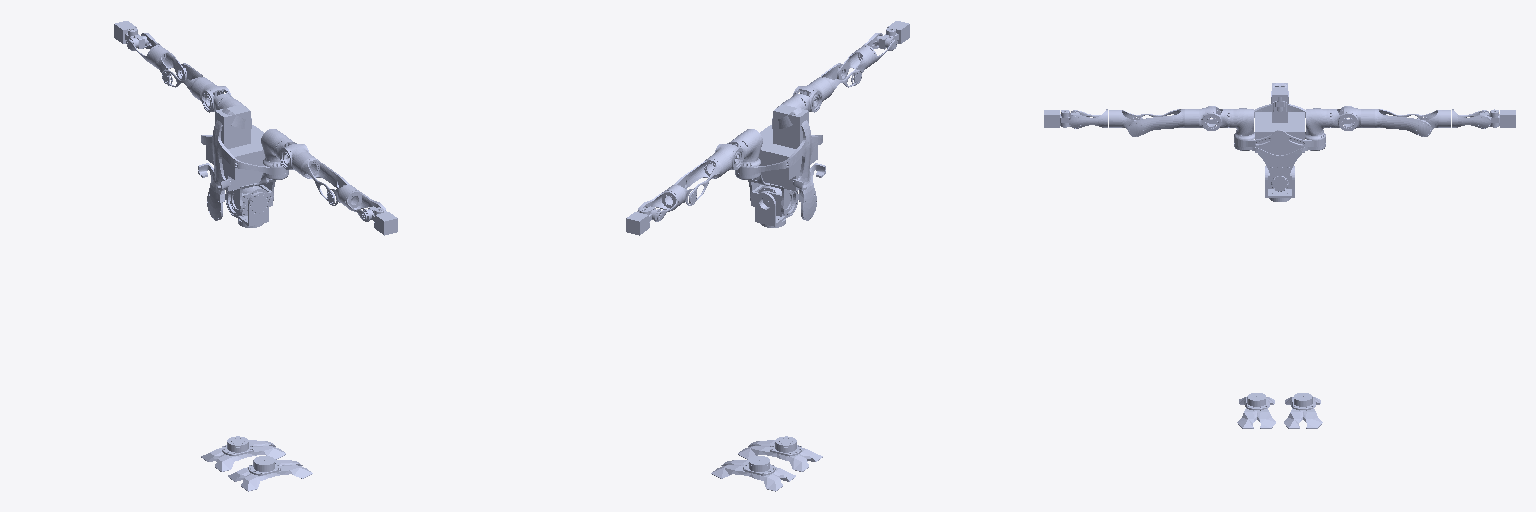
--- Facts derived from the render (not from the file) ---
The picture shows the robot from 3 angles, left to right: view 1: azimuth 30°, elevation 25°; view 2: azimuth 150°, elevation 25°; view 3: azimuth 270°, elevation 25°; orthographic projection.
Robot: dyros_tocabi_description — 36 links, 35 joints (33 revolute, 2 fixed); root link Pelvis_Link; default pose: every joint at zero.
Visible links, largest first — view 1: Upperbody_Link, R_Foot_Link, L_Foot_Link, R_Armlink_Link, Waist1_Link, L_Elbow_Link, R_Shoulder3_Link, Waist2_Link; view 2: Upperbody_Link, L_Foot_Link, R_Foot_Link, L_Armlink_Link, Waist1_Link, R_Elbow_Link, Waist2_Link, L_Shoulder3_Link; view 3: Upperbody_Link, R_Foot_Link, L_Foot_Link, R_Armlink_Link, L_Armlink_Link, R_Shoulder1_Link, L_Shoulder1_Link, R_Shoulder3_Link, L_Shoulder3_Link.
Link boxes in pixels (x1,y1,x2,y2): Upperbody_Link: (198,104,288,220); R_Foot_Link: (228,456,312,491); L_Foot_Link: (201,436,285,471); R_Armlink_Link: (302,159,351,204); Waist1_Link: (236,192,268,227); L_Elbow_Link: (149,46,185,85); R_Shoulder3_Link: (283,144,317,176); Waist2_Link: (230,185,272,216); Upperbody_Link: (735,104,825,220); L_Foot_Link: (711,456,795,491); R_Foot_Link: (738,436,822,471); L_Armlink_Link: (672,159,721,204); Waist1_Link: (755,192,787,227); R_Elbow_Link: (838,46,874,85); Waist2_Link: (751,185,793,216); L_Shoulder3_Link: (706,144,740,176); Upperbody_Link: (1234,83,1325,191); R_Foot_Link: (1237,393,1275,428); L_Foot_Link: (1284,393,1322,428); R_Armlink_Link: (1128,109,1182,136); L_Armlink_Link: (1377,109,1431,136); R_Shoulder1_Link: (1230,108,1253,135); L_Shoulder1_Link: (1306,108,1329,135); R_Shoulder3_Link: (1183,106,1220,127); L_Shoulder3_Link: (1339,106,1376,127).
Size in the robot's own frame: 0.366 by 2.09 by 1.56 metres.
Meshes: 33 distinct files referenced, 19 mesh visuals loaded (18 binary STL); not drawn: 15 (reference not matched to a file when rendering).

The robot description file, URDF, robot "dyros_tocabi_description":
<robot name="dyros_tocabi_description">
  <mujoco>
      <compiler meshdir="../meshes/" balanceinertia="true"/>
  </mujoco>
  <link
    name="Pelvis_Link">
    <inertial>
      <origin
        xyz="-0.03191 0.00017 0.01985"
        rpy="0 0 0" />
      <mass
        value="12.19525" />
      <inertia
        ixx="0.101833182"
        ixy="-0.000070812"
        ixz="-0.003831096"
        iyy="0.072400662"
        iyz="0.000079272"
        izz="0.144478157" />
    </inertial>
    <visual>
      <origin
        xyz="0 0 0"
        rpy="0 0 0" />
      <geometry>
        <mesh
          filename="package://tocabi_description/meshes/Pelvis_link.STL" />
      </geometry>
      <material
        name="">
        <color
          rgba="0.79216 0.81961 0.93333 1" />
      </material>
    </visual>
    <collision>
      <origin
        xyz="0 0 0.019"
        rpy="0 0 0" />
      <geometry>
		<cylinder length="0.088" radius="0.045"/>
      </geometry>
    </collision>
	<collision>
      <origin
        xyz="0 0.1025 0.03"
        rpy="0 0 0" />
      <geometry>
		<cylinder length="0.11" radius="0.045"/>
      </geometry>
    </collision>
	<collision>
      <origin
        xyz="0 -0.1025 0.03"
        rpy="0 0 0" />
      <geometry>
		<cylinder length="0.11" radius="0.045"/>
      </geometry>
    </collision>
	<collision>
      <origin
        xyz="-0.0205 0 0"
        rpy="0 0 0" />
      <geometry>
		<box size="0.141 0.305 0.05"/>
      </geometry>
    </collision>
  </link>
  <link
    name="R_HipRoll_Link">
<inertial>
      <origin
        xyz="-0.06477 0 0.05149"
        rpy="0 0 0" />
      <mass
        value="2.679" />
      <inertia
        ixx="0.01821"
        ixy="-1.676E-07"
        ixz="-0.0007745"
        iyy="0.03121"
        iyz="-4.53E-09"
        izz="0.2928" />
    </inertial>
    <visual>
      <origin
        xyz="0 0 0"
        rpy="0 0 0" />
      <geometry>
        <mesh
          filename="package://tocabi_description/meshes/HipRoll_R_link.STL" />
      </geometry>
      <material
        name="">
        <color
          rgba="0.79216 0.81961 0.93333 1" />
      </material>
    </visual>
    <collision>
      <origin
        xyz="-0.1 0 0"
        rpy="0 1.570796 0" />
      <geometry>
        <cylinder length="0.08" radius="0.045"/>
      </geometry>
    </collision>
	<collision>
      <origin
        xyz="-0.016 0 0.085"
        rpy="0 0 0" />
      <geometry>
		<box size="0.154 0.1 0.02"/>
      </geometry>
    </collision>
	<collision>
      <origin
        xyz="0.055 0 0.0475"
        rpy="0 0 0" />
      <geometry>
		<box size="0.012 0.072 0.095"/>
      </geometry>
    </collision>
	<collision>
      <origin
        xyz="-0.087 0 0.0475"
        rpy="0 0 0" />
      <geometry>
		<box size="0.012 0.072 0.095"/>
      </geometry>
    </collision>
  </link>
  <joint
    name="R_HipRoll_Joint"
    type="revolute">
    <origin
      xyz="0 -0.1025 -0.1225"
      rpy="0 0 0" />
    <parent
      link="Pelvis_Link" />
    <child
      link="R_HipRoll_Link" />
    <axis
      xyz="0 0 1" />
	<limit
	  lower="-3.14"
	  upper="3.14"
      effort="500"
      velocity="100" />
    <dynamics
      damping="5" />
	  
  </joint>
  <link
    name="R_HipCenter_Link">
	<inertial>
      <origin
        xyz="-0.04801 -0.0022 2E-05"
        rpy="0 0 0" />
      <mass
        value="2.67" />
      <inertia
        ixx="0.3553"
        ixy="1.725E-08"
        ixz="-3.236E-06"
        iyy="0.009161"
        iyz="-4.778E-06"
        izz="0.00876" />
    </inertial>
    <visual>
      <origin
        xyz="0 0 0"
        rpy="0 0 0" />
      <geometry>
        <mesh
          filename="package://tocabi_description/meshes/HipCenter_R_Link.STL" />
      </geometry>
      <material
        name="">
        <color
          rgba="0.79216 0.81961 0.93333 1" />
      </material>
    </visual>
    <collision>
      <origin
        xyz="-0.0045 0 0"
        rpy="0 0 0" />
      <geometry>
		<box size="0.1045 0.06 0.095"/>
      </geometry>
    </collision>
  </link>
  <joint
    name="R_HipCenter_Joint"
    type="revolute">
    <origin
      xyz="0 0 0"
      rpy="1.38777878078145E-17 2.74984739744835E-16 4.49346870585602E-16" />
    <parent
      link="R_HipRoll_Link" />
    <child
      link="R_HipCenter_Link" />
    <axis
      xyz="1 0 0" />
	  <limit
	  lower="-3.14"
	  upper="3.14"
      effort="500"
      velocity="100" />
    <dynamics
      damping="5" />
  </joint>
  <link
    name="R_Thigh_Link">
    <inertial>
      <origin
        xyz="-0.00042 -0.00032 -0.18904"
        rpy="0 0 0" />
      <mass
        value="5.366" />
      <inertia
        ixx="0.2987"
        ixy="-4.284E-05"
        ixz="-0.000196"
        iyy="0.7088"
        iyz="0.002406"
        izz="0.00982" />
    </inertial>
    <visual>
      <origin
        xyz="0 0 0"
        rpy="0 0 0" />
      <geometry>
        <mesh
          filename="package://tocabi_description/meshes/Thigh_R_Link.STL" />
      </geometry>
      <material
        name="">
        <color
          rgba="0.79216 0.81961 0.93333 1" />
      </material>
    </visual>
    <collision>
      <origin
        xyz="0 0 -0.35"
        rpy="1.570796 0 0" />
      <geometry>
        <cylinder length="0.07763" radius="0.049"/>
      </geometry>
    </collision>
	<collision>
      <origin
        xyz="0 0 -0.1923"
        rpy="0 0 0" />
      <geometry>
        <cylinder length="0.2175" radius="0.06"/>
      </geometry>
    </collision>
  </link>
  <joint
    name="R_Thigh_Joint"
    type="revolute">
    <origin
      xyz="0 0 0"
      rpy="-1.38777878078143E-17 -2.74984739744835E-16 -4.49346870585602E-16" />
    <parent
      link="R_HipCenter_Link" />
    <child
      link="R_Thigh_Link" />
    <axis
      xyz="0 1 0" />
	  <limit
	  lower="-3.14"
	  upper="3.14"
      effort="500"
      velocity="100" />
    <dynamics
      damping="5" />
  </joint>
  <link
    name="R_Knee_Link">
     <inertial>
      <origin
        xyz="0.00429 0.00214 -0.1428"
        rpy="0 0 0" />
      <mass
        value="3.883" />
      <inertia
        ixx="0.1506"
        ixy="-2.887E-05"
        ixz="-0.002607"
        iyy="0.5588"
        iyz="-0.001486"
        izz="0.007451" />
    </inertial>
    <visual>
      <origin
        xyz="0 0 0"
        rpy="0 0 0" />
      <geometry>
        <mesh
          filename="package://tocabi_description/meshes/Knee_R_Link.STL" />
      </geometry>
      <material
        name="">
        <color
          rgba="0.79216 0.81961 0.93333 1" />
      </material>
    </visual>
    <collision>
      <origin
        xyz="0 0 -0.175"
        rpy="0 0 0" />
      <geometry>
        <cylinder length="0.200" radius="0.06"/>
      </geometry>
    </collision>
  </link>
  <joint
    name="R_Knee_Joint"
    type="revolute">
    <origin
      xyz="0 0 -0.349999999999809"
      rpy="0 0 0" />
    <parent
      link="R_Thigh_Link" />
    <child
      link="R_Knee_Link" />
    <axis
      xyz="0 1 0" />
	  <limit
	  lower="-3.14"
	  upper="3.14"
      effort="500"
      velocity="100" />
    <dynamics
      damping="5" />
  </joint>
  <link
    name="R_AnkleCenter_Link">
<inertial>
      <origin
        xyz="-0.00419 -0.0018 -0.0003"
        rpy="0 0 0" />
      <mass
        value="2.51" />
      <inertia
        ixx="0.002857"
        ixy="-1.422E-07"
        ixz="2.222E-06"
        iyy="0.4135"
        iyz="4.611E-06"
        izz="0.003345" />
    </inertial>
    <visual>
      <origin
        xyz="0 0 0"
        rpy="0 0 0" />
      <geometry>
        <mesh
          filename="package://tocabi_description/meshes/AnkleCenter_R_Link.STL" />
      </geometry>
      <material
        name="">
        <color
          rgba="0.79216 0.81961 0.93333 1" />
      </material>
    </visual>
    <collision>
      <origin
        xyz="-0.0045 0 0"
        rpy="0 0 0" />
      <geometry>
		<box size="0.1045 0.06 0.095"/>
      </geometry>
    </collision>
  </link>
  <joint
    name="R_AnkleCenter_Joint"
    type="revolute">
    <origin
      xyz="0 0 -0.35"
      rpy="-2.77555756156282E-17 -1.48042453629419E-16 5.37756273475549E-16" />
    <parent
      link="R_Knee_Link" />
    <child
      link="R_AnkleCenter_Link" />
    <axis
      xyz="0 1 0" />
	  <limit
	  lower="-3.14"
	  upper="3.14"
      effort="500"
      velocity="100" />
    <dynamics
      damping="5" />
  </joint>
  <link
    name="R_AnkleRoll_Link">
    <inertial>
      <origin
        xyz="-0.05196 0.00005 -0.0219"
        rpy="0 0 0" />
      <mass
        value="1.26426" />
      <inertia
        ixx="0.418697"
        ixy="1.5176E-08"
        ixz="-0.001095976"
        iyy="0.006211405"
        iyz="-5.435E-08"
        izz="0.008575514" />
    </inertial>
    <visual>
      <origin
        xyz="0 0 0"
        rpy="0 0 0" />
      <geometry>
        <mesh
          filename="package://tocabi_description/meshes/AnkleRoll_R_Link.STL" />
      </geometry>
      <material
        name="">
        <color
          rgba="0.79216 0.81961 0.93333 1" />
      </material>
    </visual>
    <collision>
      <origin
        xyz="-0.08875 0 0"
        rpy="0 -1.5707963 0" />
      <geometry>
		<cylinder length="0.0625" radius="0.045"/>
      </geometry>
    </collision>
  </link>
  <joint
    name="R_AnkleRoll_Joint"
    type="revolute">
    <origin
      xyz="0 0 0"
      rpy="0 0 0" />
    <parent
      link="R_AnkleCenter_Link" />
    <child
      link="R_AnkleRoll_Link" />
    <axis
      xyz="1 0 0" />
	  <limit
	  lower="-3.14"
	  upper="3.14"
      effort="500"
      velocity="100" />
    <dynamics
      damping="5" />
  </joint>
  <link
    name="R_Foot_Link">
    <inertial>
      <origin
        xyz="-0.0162 0.00008 -0.1209"
        rpy="0 0 0" />
      <mass
        value="2.326" />
      <inertia
        ixx="0.003386409"
        ixy="1.1237E-05"
        ixz="-0.000526477"
        iyy="0.012600125"
        iyz="-1.976E-06"
        izz="0.014296" />
    </inertial>
    <visual>
      <origin
        xyz="0 0 0"
        rpy="0 0 0" />
      <geometry>
        <mesh
          filename="package://tocabi_description/meshes/Foot_Link.STL" />
      </geometry>
      <material
        name="">
        <color
          rgba="0.79216 0.81961 0.93333 1" />
      </material>
    </visual>
    <collision>
      <origin
        xyz="0.03 0 -0.145"
        rpy="0 0 0" />
      <geometry>
		<box size="0.3 0.17 0.027"/>
      </geometry>
    </collision>
	<collision>
      <origin
        xyz="-0.08875 0 0"
        rpy="0 -1.5707963 0" />
      <geometry>
		<cylinder length="0.0625" radius="0.045"/>
      </geometry>
    </collision>
  </link>
  <joint
    name="R_Foot_Joint"
    type="fixed">
    <origin
      xyz="0 0 0"
      rpy="0 0 0" />
    <parent
      link="R_AnkleRoll_Link" />
    <child
      link="R_Foot_Link" />
    <axis
      xyz="0 0 0" />
	  <limit
	  lower="-3.14"
	  upper="3.14"
      effort="500"
      velocity="100" />
    <dynamics
      damping="5" />
  </joint> 
  <link
    name="L_HipRoll_Link">
    <inertial>
      <origin
        xyz="-0.06477 0 0.05149"
        rpy="0 0 0" />
      <mass
        value="2.679" />
      <inertia
        ixx="0.01821"
        ixy="-1.676E-07"
        ixz="-0.0007745"
        iyy="0.03121"
        iyz="-4.53E-09"
        izz="0.2928" />
    </inertial>
    <visual>
      <origin
        xyz="0 0 0"
        rpy="0 0 0" />
      <geometry>
        <mesh
          filename="package://tocabi_description/meshes/HipRoll_L_Link.STL" />
      </geometry>
      <material
        name="">
        <color
          rgba="0.79216 0.81961 0.93333 1" />
      </material>
    </visual>
    <collision>
      <origin
        xyz="-0.1 0 0"
        rpy="0 1.570796 0" />
      <geometry>
        <cylinder length="0.08" radius="0.045"/>
      </geometry>
    </collision>
	<collision>
      <origin
        xyz="-0.016 0 0.085"
        rpy="0 0 0" />
      <geometry>
		<box size="0.154 0.1 0.02"/>
      </geometry>
    </collision>
	<collision>
      <origin
        xyz="0.055 0 0.0475"
        rpy="0 0 0" />
      <geometry>
		<box size="0.012 0.072 0.095"/>
      </geometry>
    </collision>
	<collision>
      <origin
        xyz="-0.087 0 0.0475"
        rpy="0 0 0" />
      <geometry>
		<box size="0.012 0.072 0.095"/>
      </geometry>
    </collision>
  </link>
  <joint
    name="L_HipRoll_Joint"
    type="revolute">
    <origin
      xyz="0 0.1025 -0.1225"
      rpy="0 0 0" />
    <parent
      link="Pelvis_Link" />
    <child
      link="L_HipRoll_Link" />
    <axis
      xyz="0 0 1" />
	  <limit
	  lower="-3.14"
	  upper="3.14"
      effort="500"
      velocity="100" />
    <dynamics
      damping="5" />
  </joint>

  <link
    name="L_HipCenter_Link">
   <inertial>
      <origin
        xyz="-0.04801 0.0022 2E-05"
        rpy="0 0 0" />
      <mass
        value="2.67" />
      <inertia
        ixx="0.3553"
        ixy="1.725E-08"
        ixz="-3.236E-06"
        iyy="0.009161"
        iyz="-4.778E-06"
        izz="0.00876" />
    </inertial>
    <visual>
      <origin
        xyz="0 0 0"
        rpy="0 0 0" />
      <geometry>
        <mesh
          filename="package://tocabi_description/meshes/HipCenter_L_Link.STL" />
      </geometry>
      <material
        name="">
        <color
          rgba="0.79216 0.81961 0.93333 1" />
      </material>
    </visual>    
    <collision>
      <origin
        xyz="-0.0045 0 0"
        rpy="0 0 0" />
      <geometry>
		<box size="0.1045 0.06 0.095"/>
      </geometry>
    </collision>
  </link>
  <joint
    name="L_HipCenter_Joint"
    type="revolute">
    <origin
      xyz="0 0 0"
      rpy="2.77555756156289E-17 1.88969769143558E-16 1.36928250674653E-16" />
    <parent
      link="L_HipRoll_Link" />
    <child
      link="L_HipCenter_Link" />
    <axis
      xyz="1 0 0" />
	  <limit
	  lower="-3.14"
	  upper="3.14"
      effort="500"
      velocity="100" />
    <dynamics
      damping="5" />
  </joint>
  <link
    name="L_Thigh_Link">
   <inertial>
      <origin
        xyz="-0.00042 0.00032 -0.18904"
        rpy="0 0 0" />
      <mass
        value="5.366" />
      <inertia
        ixx="0.2987"
        ixy="-4.284E-05"
        ixz="-0.000196"
        iyy="0.7088"
        iyz="0.002406"
        izz="0.00982" />
    </inertial>
    <visual>
      <origin
        xyz="0 0 0"
        rpy="0 0 0" />
      <geometry>
        <mesh
          filename="package://tocabi_description/meshes/Thigh_L_Link.STL" />
      </geometry>
      <material
        name="">
        <color
          rgba="0.79216 0.81961 0.93333 1" />
      </material>
    </visual>
    <collision>
      <origin
        xyz="0 0 -0.35"
        rpy="1.570796 0 0" />
      <geometry>
        <cylinder length="0.07763" radius="0.049"/>
      </geometry>
    </collision>
	<collision>
      <origin
        xyz="0 0 -0.1923"
        rpy="0 0 0" />
      <geometry>
        <cylinder length="0.2175" radius="0.06"/>
      </geometry>
    </collision>
  </link>
  <joint
    name="L_Thigh_Joint"
    type="revolute">
    <origin
      xyz="0 0 0"
      rpy="-2.77555756156289E-17 -1.88969769143558E-16 -1.36928250674653E-16" />
    <parent
      link="L_HipCenter_Link" />
    <child
      link="L_Thigh_Link" />
    <axis
      xyz="0 1 0" />
	  <limit
	  lower="-3.14"
	  upper="3.14"
      effort="500"
      velocity="100" />
    <dynamics
      damping="5" />
  </joint>

  <link
    name="L_Knee_Link">
    <inertial>
      <origin
        xyz="0.00429 -0.00214 -0.1428"
        rpy="0 0 0" />
      <mass
        value="3.883" />
      <inertia
        ixx="0.1506"
        ixy="-2.887E-05"
        ixz="-0.002607"
        iyy="0.5588"
        iyz="-0.001486"
        izz="0.007451" />
    </inertial>
    <visual>
      <origin
        xyz="0 0 0"
        rpy="0 0 0" />
      <geometry>
        <mesh
          filename="package://tocabi_description/meshes/Knee_L_Link.STL" />
      </geometry>
      <material
        name="">
        <color
          rgba="0.79216 0.81961 0.93333 1" />
      </material>
    </visual>
    <collision>
      <origin
        xyz="0 0 -0.175"
        rpy="0 0 0" />
      <geometry>
        <cylinder length="0.200" radius="0.06"/>
      </geometry>
    </collision>
  </link>
  <joint
    name="L_Knee_Joint"
    type="revolute">
    <origin
      xyz="0 0 -0.350000000000191"
      rpy="0 0 0" />
    <parent
      link="L_Thigh_Link" />
    <child
      link="L_Knee_Link" />
    <axis
      xyz="0 1 0" />
	  <limit
	  lower="-3.14"
	  upper="3.14"
      effort="500"
      velocity="100" />
    <dynamics
      damping="5" />
  </joint>
  <link
    name="L_AnkleCenter_Link">
     <inertial>
      <origin
        xyz="-0.00419 0.0018 -0.0003"
        rpy="0 0 0" />
      <mass
        value="2.51" />
      <inertia
        ixx="0.002857"
        ixy="-1.422E-07"
        ixz="2.222E-06"
        iyy="0.4135"
        iyz="4.611E-06"
        izz="0.003345" />
    </inertial>
    <visual>
      <origin
        xyz="0 0 0"
        rpy="0 0 0" />
      <geometry>
        <mesh
          filename="package://tocabi_description/meshes/AnkleCenter_L_Link.STL" />
      </geometry>
      <material
        name="">
        <color
          rgba="0.79216 0.81961 0.93333 1" />
      </material>
    </visual>
    <collision>
      <origin
        xyz="-0.0045 0 0"
        rpy="0 0 0" />
      <geometry>
		<box size="0.1045 0.06 0.095"/>
      </geometry>
    </collision>
  </link>
  <joint
    name="L_AnkleCenter_Joint"
    type="revolute">
    <origin
      xyz="0 0 -0.350000000051828"
      rpy="2.57102424745274E-31 -1.5978825624527E-16 1.89651504296143E-16" />
    <parent
      link="L_Knee_Link" />
    <child
      link="L_AnkleCenter_Link" />
    <axis
      xyz="0 1 0" />
	  <limit
	  lower="-3.14"
	  upper="3.14"
      effort="500"
      velocity="100" />
    <dynamics
      damping="5" />
  </joint>
  <link
    name="L_AnkleRoll_Link">
    <inertial>
      <origin
        xyz="-0.05196 0.00005 -0.0219"
        rpy="0 0 0" />
      <mass
        value="1.26426" />
      <inertia
        ixx="0.418697"
        ixy="1.5176E-08"
        ixz="-0.001095976"
        iyy="0.006211405"
        iyz="-5.435E-08"
        izz="0.008575514" />
    </inertial>
    <visual>
      <origin
        xyz="0 0 0"
        rpy="0 0 0" />
      <geometry>
        <mesh
          filename="package://tocabi_description/meshes/AnkleRoll_L_Link.STL" />
      </geometry>
      <material
        name="">
        <color
          rgba="0.79216 0.81961 0.93333 1" />
      </material>
    </visual>
    <collision>
      <origin
        xyz="-0.08875 0 0"
        rpy="0 -1.5707963 0" />
      <geometry>
		<cylinder length="0.0625" radius="0.045"/>
      </geometry>
    </collision>
  </link>
  <joint
    name="L_AnkleRoll_Joint"
    type="revolute">
    <origin
      xyz="0 0 0"
      rpy="-2.87406507911047E-31 1.5978825624527E-16 -1.89651504296143E-16" />
    <parent
      link="L_AnkleCenter_Link" />
    <child
      link="L_AnkleRoll_Link" />
    <axis
      xyz="1 0 0" />
	  <limit
	  lower="-3.14"
	  upper="3.14"
      effort="500"
      velocity="100" />
    <dynamics
      damping="5" />
  </joint>
  <link
    name="L_Foot_Link">
    <inertial>
      <origin
        xyz="-0.0162 0.00008 -0.1209"
        rpy="0 0 0" />
      <mass
        value="2.326" />
      <inertia
        ixx="0.003386409"
        ixy="1.1237E-05"
        ixz="-0.000526477"
        iyy="0.012600125"
        iyz="-1.976E-06"
        izz="0.014296" />
    </inertial>
    <visual>
      <origin
        xyz="0 0 0"
        rpy="0 0 0" />
      <geometry>
        <mesh
          filename="package://tocabi_description/meshes/Foot_Link.STL" />
      </geometry>
      <material
        name="">
        <color
          rgba="0.79216 0.81961 0.93333 1" />
      </material>
    </visual>
    <collision>
      <origin
        xyz="0.03 0 -0.145"
        rpy="0 0 0" />
      <geometry>
		<box size="0.3 0.17 0.027"/>
      </geometry>
    </collision>
	<collision>
      <origin
        xyz="-0.08875 0 0"
        rpy="0 -1.5707963 0" />
      <geometry>
		<cylinder length="0.0625" radius="0.045"/>
      </geometry>
    </collision>
  </link>
  <joint
    name="L_Foot_Joint"
    type="fixed">
    <origin
      xyz="0 0 0"
      rpy="0 0 0" />
    <parent
      link="L_AnkleRoll_Link" />
    <child
      link="L_Foot_Link" />
    <axis
      xyz="0 0 0" />
	  <limit
	  lower="-3.14"
	  upper="3.14"
      effort="500"
      velocity="100" />
    <dynamics
      damping="5" />
  </joint>
  <link
    name="Waist1_Link">
    <inertial>
      <origin
        xyz="0 -0.013 -0.03647"
        rpy="0 0 0" />
      <mass
        value="0.89722" />
      <inertia
        ixx="0.003744227"
        ixy="-0.000023489"
        ixz="0.000037149"
        iyy="0.002030963"
        iyz="-0.000424890"
        izz="1.007723743" />
    </inertial>
    <visual>
      <origin
        xyz="0 0 0"
        rpy="0 0 0" />
      <geometry>
        <mesh
          filename="package://tocabi_description/meshes/waist1.STL" />
      </geometry>
      <material
        name="">
        <color
          rgba="0.792156862745098 0.819607843137255 0.933333333333333 1" />
      </material>
    </visual>
	<visual>
      <origin
        xyz="0 0 -0.096"
        rpy="0 0 0" />
      <geometry>
        <cylinder length="0.02" radius="0.05"/>
      </geometry>
      <material
        name="">
        <color
          rgba="0.792156862745098 0.819607843137255 0.933333333333333 1" />
      </material>
    </visual>
	<collision>
      <origin
        xyz="0 0 -0.096"
        rpy="0 0 0" />
      <geometry>
		<cylinder length="0.02" radius="0.05"/>
      </geometry>	  
    </collision>	
	<collision>
      <origin
        xyz="0 0 -0.081"
        rpy="0 0 0" />
      <geometry>
        <box size="0.094 0.13 0.01"/>
      </geometry>	  
    </collision>
	<collision>
      <origin
        xyz="0 0.06 -0.0405"
        rpy="0 0 0" />
      <geometry>
        <box size="0.094 0.01 0.091"/>
      </geometry>	  
    </collision>
	<collision>
      <origin
        xyz="0 -0.06 -0.0405"
        rpy="0 0 0" />
      <geometry>
        <box size="0.094 0.01 0.091"/>
      </geometry>	  
    </collision>
	
  </link>
  <joint
    name="Waist1_Joint"
    type="revolute">
    <origin
      xyz="0 0 0.1779"
      rpy="0 0 0" />
    <parent
      link="Pelvis_Link" />
    <child
      link="Waist1_Link" />
    <axis
      xyz="0 0 1" />
    <limit
      lower="-2.094"
      upper="2.094"
      effort="500"
      velocity="100" />
	<dynamics
      damping="5" />
   </joint>
  <link
    name="Waist2_Link">
    <inertial>
      <origin
        xyz="-0.00029 0.00913 0"
        rpy="0 0 0" />
      <mass
        value="3.752" />
      <inertia
        ixx="0.006020606"
        ixy="0.000011504"
        ixz="-0.000000053"
        iyy="1.011708561"
        iyz="0.000001147"
        izz="0.007561688" />
    </inertial>
    <visual>
      <origin
        xyz="0 0 0"
        rpy="0 0 0" />
      <geometry>
        <mesh
          filename="package://tocabi_description/meshes/waist2.STL" />
      </geometry>
      <material
        name="">
        <color
          rgba="0.792156862745098 0.819607843137255 0.933333333333333 1" />
      </material>
    </visual>
    
	<collision>
      <origin
        xyz="0 0 0"
        rpy="1.570796 0 0" />
      <geometry>
        <cylinder length="0.1" radius="0.055"/>
      </geometry>
    </collision>
	<collision>
      <origin
        xyz="0.02 0 0"
        rpy="0 0 0" />
      <geometry>
        <box size="0.1 0.1 0.06"/>
      </geometry>
    </collision>
	<collision>
      <origin
        xyz="-0.02 0 0"
        rpy="0 0 0" />
      <geometry>
        <box size="0.09 0.1 0.091"/>
      </geometry>
    </collision>
	
	
  </link>
  <joint
    name="Waist2_Joint"
    type="revolute">
    <origin
      xyz="0 0 0"
      rpy="0 0 0" />
    <parent
      link="Waist1_Link" />
    <child
      link="Waist2_Link" />
    <axis
      xyz="0 1 0" />
    <limit
      lower="-2.094"
      upper="2.094"
      effort="500"
      velocity="100" />
	<dynamics
      damping="5" />
  </joint>
<link
    name="Upperbody_Link">
    <inertial>
      <origin
        xyz="-0.04294 0.00024 0.14798"
        rpy="0 0 0" />
      <mass
        value="16.43384" />
      <inertia
        ixx="1.270791438"
        ixy="0.000113985"
        ixz="0.029533458"
        iyy="0.238938452"
        iyz="-0.000028977"
        izz="0.179864207" />
    </inertial>
    <visual>
      <origin
        xyz="0 0 0"
        rpy="0 0 0" />
      <geometry>
        <mesh
          filename="package://tocabi_description/meshes/upperbody.STL" />
      </geometry>
      <material
        name="">
        <color
          rgba="0.792156862745098 0.819607843137255 0.933333333333333 1" />
      </material>
    </visual>
	<visual>
	  <origin
        xyz="-0.03 0 0.2"
        rpy="0 0 0" />
      <geometry>
        <box size="0.21 0.22 0.1"/>
      </geometry>
      <material
        name="">
        <color
          rgba="0.792156862745098 0.819607843137255 0.933333333333333 1" />
      </material>
    </visual>
	    <visual>
      <origin
        xyz="-0.03 0 0.115"
        rpy="0 0 0" />
      <geometry>
        <box size="0.21 0.11 0.07"/>
      </geometry>
      <material
        name="">
        <color
          rgba="0.792156862745098 0.819607843137255 0.933333333333333 1" />
      </material>
    </visual>
	    <visual>
      <origin
        xyz="-0.08 0 0.32"
        rpy="0 0 0" />
      <geometry>
        <box size="0.12 0.07 0.14"/>
      </geometry>
      <material
        name="">
        <color
          rgba="0.792156862745098 0.819607843137255 0.933333333333333 1" />
      </material>
    </visual>
    <collision>
      <origin
        xyz="-0.03 0 0.2"
        rpy="0 0 0" />
      <geometry>
        <box size="0.21 0.22 0.1"/>
      </geometry>
    </collision>
	<collision>
      <origin
        xyz="-0.03 0 0.115"
        rpy="0 0 0" />
      <geometry>
        <box size="0.21 0.11 0.07"/>
      </geometry>
    </collision>
	
	<collision>
      <origin
        xyz="-0.08 0 0.32"
        rpy="0 0 0" />
      <geometry>
        <box size="0.12 0.07 0.14"/>
      </geometry>
    </collision>
	<collision>
      <origin
        xyz="-0.115 0 0.0"
        rpy="0 1.570796 0" />
      <geometry>
        <cylinder length="0.09" radius="0.054"/>
      </geometry>
    </collision>
	<collision>
      <origin
        xyz="0.023 0.154 0.185"
        rpy="0 0 0" />
      <geometry>
        <cylinder length="0.07" radius="0.040"/>
      </geometry>
    </collision>
	<collision>
      <origin
        xyz="0.023 -0.154 0.185"
        rpy="0 0 0" />
      <geometry>
        <cylinder length="0.07" radius="0.040"/>
      </geometry>
    </collision>
  </link>
  <joint
    name="Upperbody_Joint"
    type="revolute">
    <origin
      xyz="0 0 0"
      rpy="0 0 0" />
    <parent
      link="Waist2_Link" />
    <child
      link="Upperbody_Link" />
    <axis
      xyz="-1 0 0" />
    <limit
      lower="-2.094"
      upper="2.094"
      effort="500"
      velocity="100" />
	<dynamics
      damping="5" />
  </joint>
  <link
    name="R_Shoulder1_Link">
    <inertial>
      <origin
        xyz="-0.00003 -0.00397 0.06029"
        rpy="0 0 0" />
      <mass
        value="1.6762" />
      <inertia
        ixx="0.001925606"
        ixy="-0.000001433"
        ixz="0.000002313"
        iyy="0.001936576"
        iyz="-0.000078962"
        izz="0.185330098" />
    </inertial>
    <visual>
      <origin
        xyz="0 0 0"
        rpy="0 0 0" />
      <geometry>
        <mesh
          filename="package://tocabi_description/meshes/R_shoulder1.STL" />
      </geometry>
      <material
        name="">
        <color
          rgba="0.792156862745098 0.819607843137255 0.933333333333333 1" />
      </material>
    </visual>
    <collision>
      <origin
        xyz="0 0 0.05"
        rpy="0 0 0" />
      <geometry>
        <cylinder length="0.11" radius="0.04"/>
      </geometry>
    </collision>
  </link>
  <joint
    name="R_Shoulder1_Joint"
    type="revolute">
    <origin
      xyz="0.023 -0.154 0.2275"
      rpy="0 0 0" />
    <parent
      link="Upperbody_Link" />
    <child
      link="R_Shoulder1_Link" />
    <axis
      xyz="0 0 1" />
    <limit
      lower="-1.54"
      upper="2.09"
      effort="500"
      velocity="100" />
	<dynamics
      damping="5" />
  </joint>
  <link
    name="R_Shoulder2_Link">
    <inertial>
      <origin
        xyz="0.00107 -0.0491 -0.00001"
        rpy="0 0 0" />
      <mass
        value="0.4016" />
      <inertia
        ixx="0.000989903"
        ixy="-0.000028237"
        ixz="-0.000000465"
        iyy="0.184275853"
        iyz="-0.000000133"
        izz="0.001067575" />
    </inertial>
    <visual>
      <origin
        xyz="0 0 0"
        rpy="0 0 0" />
      <geometry>
        <mesh
          filename="package://tocabi_description/meshes/R_shoulder2.STL" />
      </geometry>
      <material
        name="">
        <color
          rgba="0.792156862745098 0.819607843137255 0.933333333333333 1" />
      </material>
    </visual>
	<collision>
      <origin
        xyz="0 -0.040 0"
        rpy="1.570796 0 0" />
      <geometry>
        <cylinder length="0.05" radius="0.04"/>
      </geometry>
    </collision>
  </link>
  <joint
    name="R_Shoulder2_Joint"
    type="revolute">
    <origin
      xyz="0 -0.0341 0.065"
      rpy="0 0 0" />
    <parent
      link="R_Shoulder1_Link" />
    <child
      link="R_Shoulder2_Link" />
    <axis
      xyz="0 -1 0" />
    <limit
      lower="-3.14159"
      upper="3.14159"
      effort="500"
      velocity="100" />
	<dynamics
      damping="5" />
  </joint>
  <link
    name="R_Shoulder3_Link">
    <inertial>
      <origin
        xyz="0.00262 -0.04826 0.00023"
        rpy="0 0 0" />
      <mass
        value="2.90141" />
      <inertia
        ixx="0.192093159"
        ixy="0.000365084"
        ixz="-0.000002746"
        iyy="0.002493784"
        iyz="0.000023821"
        izz="0.008296854" />
    </inertial>
    <visual>
      <origin
        xyz="0 0 0"
        rpy="0 0 0" />
      <geometry>
        <mesh
          filename="package://tocabi_description/meshes/R_shoulder3.STL" />
      </geometry>
      <material
        name="">
        <color
          rgba="0.792156862745098 0.819607843137255 0.933333333333333 1" />
      </material>
    </visual>
    
	<collision>
      <origin
        xyz="0 -0.06 0"
        rpy="1.570796 0 0" />
      <geometry>
        <cylinder length="0.12" radius="0.04"/>
      </geometry>
    </collision>
  </link>
  <joint
    name="R_Shoulder3_Joint"
    type="revolute">
    <origin
      xyz="0 -0.115 0"
      rpy="0 0 0" />
    <parent
      link="R_Shoulder2_Link" />
    <child
      link="R_Shoulder3_Link" />
    <axis
      xyz="-1 0 0" />
    <limit
      lower="-1.9199"
      upper="1.9199"
      effort="500"
      velocity="100" />
	<dynamics
      damping="5" />
  </joint>
  <link
    name="R_Armlink_Link">
    <inertial>
      <origin
        xyz="0.01896 -0.11642 -0.0119"
        rpy="0 0 0" />
      <mass
        value="0.43517" />
      <inertia
        ixx="0.002878609"
        ixy="-0.000302586"
        ixz="-0.000036001"
        iyy="0.184381923"
        iyz="-0.000398377"
        izz="0.003117058" />
    </inertial>
    <visual>
      <origin
        xyz="0 0 0"
        rpy="0 0 0" />
      <geometry>
        <mesh
          filename="package://tocabi_description/meshes/R_arm.STL" />
      </geometry>
      <material
        name="">
        <color
          rgba="0.792156862745098 0.819607843137255 0.933333333333333 1" />
      </material>
    </visual>
	<collision>
      <origin
        xyz="0 -0.08 0"
        rpy="1.570796 0 0" />
      <geometry>
        <cylinder length="0.16" radius="0.04"/>
      </geometry>
    </collision>
  </link>
  <joint
    name="R_Armlink_Joint"
    type="revolute">
    <origin
      xyz="0 -0.1281 0"
      rpy="0 0 0" />
    <parent
      link="R_Shoulder3_Link" />
    <child
      link="R_Armlink_Link" />
    <axis
      xyz="0 -1 0" />
    <limit
      lower="-3.14159"
      upper="3.14159"
      effort="500"
      velocity="100" />
	<dynamics
      damping="5" />
  </joint>
  <link
    name="R_Elbow_Link">
    <inertial>
      <origin
        xyz="-0.00136 -0.05256 0.01764"
        rpy="0 0 0" />
      <mass
        value="1.96511" />
      <inertia
        ixx="0.055865466"
        ixy="-0.000151764"
        ixz="0.000055158"
        iyy="0.001895543"
        iyz="-0.001530917"
        izz="0.005958821" />
    </inertial>
    <visual>
      <origin
        xyz="0 0 0"
        rpy="0 0 0" />
      <geometry>
        <mesh
          filename="package://tocabi_description/meshes/R_elbow.STL" />
      </geometry>
      <material
        name="">
        <color
          rgba="0.792156862745098 0.819607843137255 0.933333333333333 1" />
      </material>
    </visual>
	
	<collision>
      <origin
        xyz="0 -0.08 0.0325"
        rpy="1.570796 0 0" />
      <geometry>
        <cylinder length="0.08" radius="0.04"/>
      </geometry>
    </collision>
	<collision>
      <origin
        xyz="0 0 0"
        rpy="0 1.570796 0" />
      <geometry>
        <cylinder length="0.08" radius="0.04"/>
      </geometry>
    </collision>
	
  </link>
  <joint
    name="R_Elbow_Joint"
    type="revolute">
    <origin
      xyz="0 -0.207 -0.0325"
      rpy="0 0 0" />
    <parent
      link="R_Armlink_Link" />
    <child
      link="R_Elbow_Link" />
    <axis
      xyz="1 0 0" />
    <limit
      lower="-2.967"
      upper="3.14159"
      effort="500"
      velocity="100" />
	<dynamics
      damping="5" />
  </joint>
  <link
    name="R_Forearm_Link">
    <inertial>
      <origin
        xyz="0.01426 -0.0767 0.00033"
        rpy="0 0 0" />
      <mass
        value="0.30234" />
      <inertia
        ixx="0.001053636"
        ixy="-0.000084568"
        ixz="0.000022117"
        iyy="0.049889479"
        iyz="-0.000019539"
        izz="0.001266418" />
    </inertial>
    <visual>
      <origin
        xyz="0 0 0"
        rpy="0 0 0" />
      <geometry>
        <mesh
          filename="package://tocabi_description/meshes/R_forearm.STL" />
      </geometry>
      <material
        name="">
        <color
          rgba="0.792156862745098 0.819607843137255 0.933333333333333 1" />
      </material>
    </visual>
	<collision>
      <origin
        xyz="0 -0.05 0"
        rpy="1.570796 0 0" />
      <geometry>
        <cylinder length="0.1" radius="0.04"/>
      </geometry>
    </collision>
	<collision>
      <origin
        xyz="0 -0.1451 0"
        rpy="0 1.570796 0" />
      <geometry>
        <cylinder length="0.08" radius="0.025"/>
      </geometry>
    </collision>
  </link>
  <joint
    name="R_Forearm_Joint"
    type="revolute">
    <origin
      xyz="0 -0.1244 0.0325"
      rpy="0 0 0" />
    <parent
      link="R_Elbow_Link" />
    <child
      link="R_Forearm_Link" />
    <axis
      xyz="0 -1 0" />
    <limit
      lower="-3.14159"
      upper="3.14159"
      effort="500"
      velocity="100" />
	<dynamics
      damping="5" />
  </joint>
  <link
    name="R_Wrist1_Link">
    <inertial>
      <origin
        xyz="-0.00158 -0.02153 0.00003"
        rpy="0 0 0" />
      <mass
        value="0.70923" />
      <inertia
        ixx="0.015205197"
        ixy="-0.000024218"
        ixz="-0.000000263"
        iyy="0.000396376"
        iyz="-0.000000688"
        izz="0.000683187" />
    </inertial>
    <visual>
      <origin
        xyz="0 0 0"
        rpy="0 0 0" />
      <geometry>
        <mesh
          filename="package://tocabi_description/meshes/R_wrist1.STL" />
      </geometry>
      <material
        name="">
        <color
          rgba="0.792156862745098 0.819607843137255 0.933333333333333 1" />
      </material>
    </visual>
	<collision>
      <origin
        xyz="0 -0.046 0"
        rpy="0 0 0" />
      <geometry>
        <cylinder length="0.06" radius="0.02"/>
      </geometry>
    </collision>
  </link>
  <joint
    name="R_Wrist1_Joint"
    type="revolute">
    <origin
      xyz="0 -0.1451 0"
      rpy="0 0 0" />
    <parent
      link="R_Forearm_Link" />
    <child
      link="R_Wrist1_Link" />
    <axis
      xyz="1 0 0" />
    <limit
      lower="-3.14159"
      upper="3.14159"
      effort="500"
      velocity="100" />
	<dynamics
      damping="5" />
  </joint>
  <link
    name="R_Wrist2_Link">
    <inertial>
      <origin
        xyz="0.00063 -0.0536 0.00178"
        rpy="0 0 0" />
      <mass
        value="0.001" />
      <inertia
        ixx="0.000865450"
        ixy="0"
        ixz="0"
        iyy="0.000696917"
        iyz="0"
        izz="0.015377823" />
    </inertial>
    <visual>
      <origin
        xyz="0 -0.057 0"
        rpy="0 0 0" />
      <geometry>
        <box size="0.06 0.07 0.06"/>
      </geometry>
      <material
        name="">
        <color
          rgba="0.792156862745098 0.819607843137255 0.933333333333333 1" />
      </material>
    </visual>
    <collision>
      <origin
        xyz="0 -0.057 0"
        rpy="0 0 0" />
      <geometry>
        <box size="0.06 0.07 0.06"/>
      </geometry>
    </collision>
  </link>
  <joint
    name="R_Wrist2_Joint"
    type="revolute">
    <origin
      xyz="0 -0.046 0"
      rpy="0 0 0" />
    <parent
      link="R_Wrist1_Link" />
    <child
      link="R_Wrist2_Link" />
    <axis
      xyz="0 0 1" />
    <limit
      lower="-2.094"
      upper="2.094"
      effort="500"
      velocity="100" />
	<dynamics
      damping="5" />
  </joint>  
  <link
    name="L_Shoulder1_Link">
    <inertial>
      <origin
        xyz="-0.00003 0.00397 0.06029"
        rpy="0 0 0" />
      <mass
        value="1.6762" />
      <inertia
        ixx="0.001925606"
        ixy="0.000001433"
        ixz="0.000002313"
        iyy="0.001936576"
        iyz="0.000078962"
        izz="0.001678498" />
    </inertial>
    <visual>
      <origin
        xyz="0 0 0"
        rpy="0 0 0" />
      <geometry>
        <mesh
          filename="package://tocabi_description/meshes/L_shoulder1.STL" />
      </geometry>
      <material
        name="">
        <color
          rgba="0.792156862745098 0.819607843137255 0.933333333333333 1" />
      </material>
    </visual>
	<collision>
      <origin
        xyz="0 0 0.05"
        rpy="0 0 0" />
      <geometry>
        <cylinder length="0.11" radius="0.04"/>
      </geometry>
    </collision>
  </link>
  <joint
    name="L_Shoulder1_Joint"
    type="revolute">
    <origin
      xyz="0.023 0.154 0.2275"
      rpy="0 0 0" />
    <parent
      link="Upperbody_Link" />
    <child
      link="L_Shoulder1_Link" />
    <axis
      xyz="0 0 1" />
    <limit
      lower="-2.09"
      upper="1.54"
      effort="500"
      velocity="100" />
	<dynamics
      damping="5" />
  </joint>

  <link
    name="L_Shoulder2_Link">
    <inertial>
      <origin
        xyz="0.00107 0.0491 -0.00001"
        rpy="0 0 0" />
      <mass
        value="0.4016" />
      <inertia
        ixx="0.000989903"
        ixy="0.000028237"
        ixz="-0.000000465"
        iyy="0.000624253"
        iyz="0.000000133"
        izz="0.001067575" />
    </inertial>
    <visual>
      <origin
        xyz="0 0 0"
        rpy="0 0 0" />
      <geometry>
        <mesh
          filename="package://tocabi_description/meshes/L_shoulder2.STL" />
      </geometry>
      <material
        name="">
        <color
          rgba="0.792156862745098 0.819607843137255 0.933333333333333 1" />
      </material>
    </visual>
	<collision>
      <origin
        xyz="0 0.040 0"
        rpy="1.570796 0 0" />
      <geometry>
        <cylinder length="0.05" radius="0.04"/>
      </geometry>
    </collision>
  </link>
  <joint
    name="L_Shoulder2_Joint"
    type="revolute">
    <origin
      xyz="0 0.0341 0.065"
      rpy="0 0 0" />
    <parent
      link="L_Shoulder1_Link" />
    <child
      link="L_Shoulder2_Link" />
    <axis
      xyz="0 1 0" />
    <limit
      lower="-3.14159"
      upper="3.14159"
      effort="500"
      velocity="100" />
	<dynamics
      damping="5" />
  </joint>
  <link
    name="L_Shoulder3_Link">
    <inertial>
      <origin
        xyz="0.00262 0.04826 0.00023"
        rpy="0 0 0" />
      <mass
        value="2.90141" />
      <inertia
        ixx="0.008441559"
        ixy="-0.000365084"
        ixz="-0.000002746"
        iyy="0.002493784"
        iyz="-0.000023821"
        izz="0.008296854" />
    </inertial>
    <visual>
      <origin
        xyz="0 0 0"
        rpy="0 0 0" />
      <geometry>
        <mesh
          filename="package://tocabi_description/meshes/L_shoulder3.STL" />
      </geometry>
      <material
        name="">
        <color
          rgba="0.792156862745098 0.819607843137255 0.933333333333333 1" />
      </material>
    </visual>
	<collision>
      <origin
        xyz="0 0.06 0"
        rpy="1.570796 0 0" />
      <geometry>
        <cylinder length="0.12" radius="0.04"/>
      </geometry>
    </collision>
  </link>
  <joint
    name="L_Shoulder3_Joint"
    type="revolute">
    <origin
      xyz="0 0.115 0"
      rpy="0 0 0" />
    <parent
      link="L_Shoulder2_Link" />
    <child
      link="L_Shoulder3_Link" />
    <axis
      xyz="-1 0 0" />
    <limit
      lower="-1.9199"
      upper="1.9199"
      effort="500"
      velocity="100" />
	<dynamics
      damping="5" />
  </joint>

  <link
    name="L_Armlink_Link">
    <inertial>
      <origin
        xyz="0.01896 0.11642 -0.0119"
        rpy="0 0 0" />
      <mass
        value="0.43517" />
      <inertia
        ixx="0.002878609"
        ixy="0.000302586"
        ixz="-0.000036001"
        iyy="0.000730323"
        iyz="0.000398377"
        izz="0.003117058" />
    </inertial>
    <visual>
      <origin
        xyz="0 0 0"
        rpy="0 0 0" />
      <geometry>
        <mesh
          filename="package://tocabi_description/meshes/L_arm.STL" />
      </geometry>
      <material
        name="">
        <color
          rgba="0.792156862745098 0.819607843137255 0.933333333333333 1" />
      </material>
    </visual>
	<collision>
      <origin
        xyz="0 0.08 0"
        rpy="1.570796 0 0" />
      <geometry>
        <cylinder length="0.16" radius="0.04"/>
      </geometry>
    </collision>
  </link>
  <joint
    name="L_Armlink_Joint"
    type="revolute">
    <origin
      xyz="0 0.1281 0"
      rpy="0 0 0" />
    <parent
      link="L_Shoulder3_Link" />
    <child
      link="L_Armlink_Link" />
    <axis
      xyz="0 1 0" />
    <limit
      lower="-3.14159"
      upper="3.14159"
      effort="500"
      velocity="100" />
	<dynamics
      damping="5" />
  </joint>
  <link
    name="L_Elbow_Link">
    <inertial>
      <origin
        xyz="-0.00136 0.05256 0.01764"
        rpy="0 0 0" />
      <mass
        value="1.96511" />
      <inertia
        ixx="0.006375466"
        ixy="0.000151764"
        ixz="0.000055158"
        iyy="0.001895543"
        iyz="0.001530917"
        izz="0.005958821" />
    </inertial>
    <visual>
      <origin
        xyz="0 0 0"
        rpy="0 0 0" />
      <geometry>
        <mesh
          filename="package://tocabi_description/meshes/L_elbow.STL" />
      </geometry>
      <material
        name="">
        <color
          rgba="0.792156862745098 0.819607843137255 0.933333333333333 1" />
      </material>
    </visual>
<collision>
      <origin
        xyz="0 0.08 0.0325"
        rpy="1.570796 0 0" />
      <geometry>
        <cylinder length="0.08" radius="0.04"/>
      </geometry>
    </collision>
	<collision>
      <origin
        xyz="0 0 0"
        rpy="0 1.570796 0" />
      <geometry>
        <cylinder length="0.08" radius="0.04"/>
      </geometry>
    </collision>
  </link>
  <joint
    name="L_Elbow_Joint"
    type="revolute">
    <origin
      xyz="0 0.207 -0.0325"
      rpy="0 0 0" />
    <parent
      link="L_Armlink_Link" />
    <child
      link="L_Elbow_Link" />
    <axis
      xyz="1 0 0" />
    <limit
      lower="-3.14159"
      upper="2.8"
      effort="500"
      velocity="100" />
	<dynamics
      damping="5" />
  </joint>
  <link
    name="L_Forearm_Link">
    <inertial>
      <origin
        xyz="0.01426 0.0767 0.00033"
        rpy="0 0 0" />
      <mass
        value="0.30234" />
      <inertia
        ixx="0.001053636"
        ixy="0.000084568"
        ixz="0.000022117"
        iyy="0.000399479"
        iyz="0.000019539"
        izz="0.001266418" />
    </inertial>
    <visual>
      <origin
        xyz="0 0 0"
        rpy="0 0 0" />
      <geometry>
        <mesh
          filename="package://tocabi_description/meshes/L_forearm.STL" />
      </geometry>
      <material
        name="">
        <color
          rgba="0.792156862745098 0.819607843137255 0.933333333333333 1" />
      </material>
    </visual>
		<collision>
      <origin
        xyz="0 0.05 0"
        rpy="1.570796 0 0" />
      <geometry>
        <cylinder length="0.1" radius="0.04"/>
      </geometry>
    </collision>
	<collision>
      <origin
        xyz="0 0.1451 0"
        rpy="0 1.570796 0" />
      <geometry>
        <cylinder length="0.08" radius="0.025"/>
      </geometry>
    </collision>
  </link>
  <joint
    name="L_Forearm_Joint"
    type="revolute">
    <origin
      xyz="0 0.1244 0.0325"
      rpy="0 0 0" />
    <parent
      link="L_Elbow_Link" />
    <child
      link="L_Forearm_Link" />
    <axis
      xyz="0 1 0" />
    <limit
      lower="-3.14159"
      upper="3.14159"
      effort="500"
      velocity="100" />
	<dynamics
      damping="5" />
  </joint>
  <link
    name="L_Wrist1_Link">
    <inertial>
      <origin
        xyz="-0.00158 0.02153 0.00003"
        rpy="0 0 0" />
      <mass
        value="0.70923" />
      <inertia
        ixx="0.000648197"
        ixy="0.000024218"
        ixz="-0.000000263"
        iyy="0.000396376"
        iyz="0.000000688"
        izz="0.000683187" />
    </inertial>
    <visual>
      <origin
        xyz="0 0 0"
        rpy="0 0 0" />
      <geometry>
        <mesh
          filename="package://tocabi_description/meshes/L_wrist1.STL" />
      </geometry>
      <material
        name="">
        <color
          rgba="0.792156862745098 0.819607843137255 0.933333333333333 1" />
      </material>
    </visual>
    	<collision>
      <origin
        xyz="0 0.046 0"
        rpy="0 0 0" />
      <geometry>
        <cylinder length="0.06" radius="0.02"/>
      </geometry>
    </collision>
  </link>
  <joint
    name="L_Wrist1_Joint"
    type="revolute">
    <origin
      xyz="0 0.1451 0"
      rpy="0 0 0" />
    <parent
      link="L_Forearm_Link" />
    <child
      link="L_Wrist1_Link" />
    <axis
      xyz="1 0 0" />
    <limit
      lower="-3.14159"
      upper="3.14159"
      effort="500"
      velocity="100" />
	<dynamics
      damping="5" />
  </joint>
  <link
    name="L_Wrist2_Link">
    <inertial>
      <origin
        xyz="0.00063 0.0536 0.00178"
        rpy="0 0 0" />
      <mass
        value="0.001" />
      <inertia
        ixx="0.000865450"
        ixy="0"
        ixz="0"
        iyy="0.000696917"
        iyz="0"
        izz="0.000820823" />
    </inertial>
    <visual>
      <origin
        xyz="0 0.057 0"
        rpy="0 0 0" />
      <geometry>
        <box size="0.06 0.07 0.06"/>
      </geometry>
      <material
        name="">
        <color
          rgba="0.792156862745098 0.819607843137255 0.933333333333333 1" />
      </material>
    </visual>
	<collision>
      <origin
        xyz="0 0.057 0"
        rpy="0 0 0" />
      <geometry>
        <box size="0.06 0.07 0.06"/>
      </geometry>
    </collision>
  </link>
  <joint
    name="L_Wrist2_Joint"
    type="revolute">
    <origin
      xyz="0 0.046 0"
      rpy="0 0 0" />
    <parent
      link="L_Wrist1_Link" />
    <child
      link="L_Wrist2_Link" />
    <axis
      xyz="0 0 1" />
    <limit
      lower="-2.094"
      upper="2.094"
      effort="500"
      velocity="100" />
	<dynamics
      damping="5" />
  </joint>
  <link
    name="Neck_Link">
    <inertial>
      <origin
        xyz="0.0 -0.00363 -0.0023"
        rpy="0 0 0" />
      <mass
        value="0.248" />
      <inertia
        ixx="0.000058259"
        ixy="-0.000000076"
        ixz="0.000000268"
        iyy="0.000036489"
        iyz="-0.000001002"
        izz="0.000058237" />
    </inertial>
    <visual>
      <origin
        xyz="0 0 0"
        rpy="0 0 0" />
      <geometry>
        <mesh
          filename="package://tocabi_description/meshes/neck.STL" />
      </geometry>
      <material
        name="">
        <color
          rgba="0.792156862745098 0.819607843137255 0.933333333333333 1" />
      </material>
    </visual>
	<collision>
      <origin
        xyz="0 0 0.05"
        rpy="0 0 0" />
      <geometry>
        <cylinder length="0.043" radius="0.07"/>
      </geometry>
    </collision>
  </link>
  <joint
    name="Neck_Joint"
    type="revolute">
    <origin
      xyz="-0.036 0.0 0.3795"
      rpy="0 0 0" />
    <parent
      link="Upperbody_Link" />
    <child
      link="Neck_Link" />
    <axis
      xyz="0 0 1" />
    <limit
      lower="-1.54"
      upper="1.54"
      effort="500"
      velocity="100" />
	<dynamics
      damping="5" />
  </joint>

  <link
    name="Head_Link">
    <inertial>
      <origin
        xyz="-0.0036 0.0031 0.1289"
        rpy="0 0 0" />
      <mass
        value="3.46332" />
      <inertia
        ixx="0.020045929"
        ixy="-0.000020568"
        ixz="-0.001338538"
        iyy="0.021593879"
        iyz="0.000156360"
        izz="0.014854138" />
    </inertial>
    <visual>
      <origin
        xyz="0 0 0"
        rpy="0 0 0" />
      <geometry>
        <mesh
          filename="package://tocabi_description/meshes/head.STL" />
      </geometry>
      <material
        name="">
        <color
          rgba="0.792156862745098 0.819607843137255 0.933333333333333 1" />
      </material>
    </visual>
	<collision>
      <origin
        xyz="0 0 0.05"
        rpy="0 0 0" />
      <geometry>
        <cylinder length="0.043" radius="0.07"/>
      </geometry>
    </collision>
  </link>
  <joint
    name="Head_Joint"
    type="revolute">
    <origin
      xyz="0.0 0.0 0.0275"
      rpy="0 0 0" />
    <parent
      link="Neck_Link" />
    <child
      link="Head_Link" />
    <axis
      xyz="0 1 0" />
    <limit
      lower="-1.54"
      upper="1.54"
      effort="500"
      velocity="100" />
	<dynamics
      damping="5" />
  </joint>
  
  
  
</robot>
